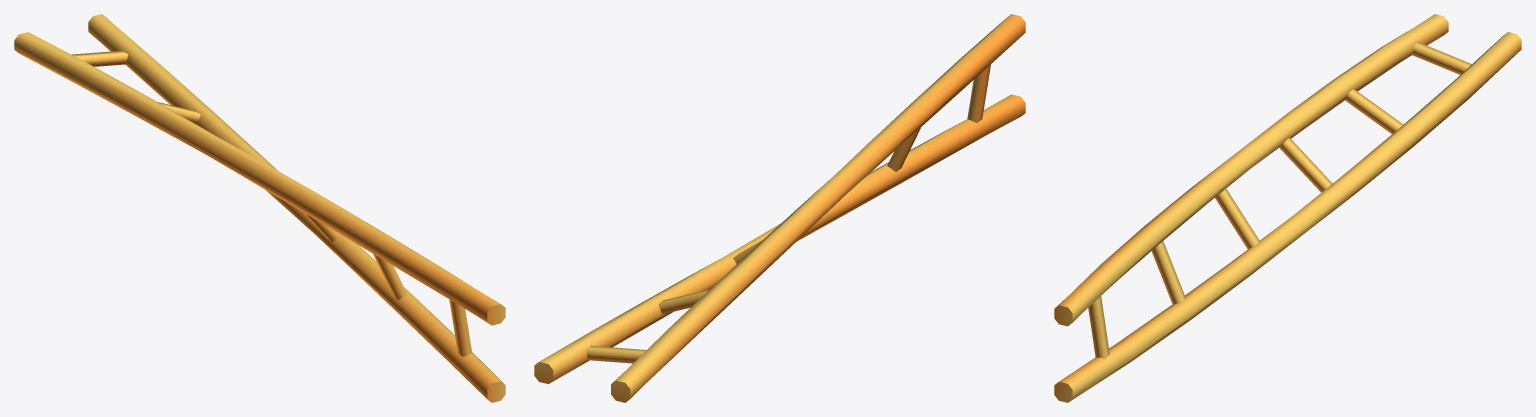
File: coaster-mouse-straight-skew-left-side.glb
The picture shows the model from 3 angles, left to right: view 1: azimuth 30°, elevation 25°; view 2: azimuth 150°, elevation 25°; view 3: azimuth 330°, elevation 25°; orthographic projection. The views are drawn at different scales.
Visible parts, largest first — view 1: coaster-mouse-straight-skew-left-side; view 2: coaster-mouse-straight-skew-left-side; view 3: coaster-mouse-straight-skew-left-side.
Boxes of the visible parts, x1,y1,x2,y2 form: coaster-mouse-straight-skew-left-side: (14, 14, 505, 402); coaster-mouse-straight-skew-left-side: (534, 14, 1025, 402); coaster-mouse-straight-skew-left-side: (1054, 14, 1521, 402).
Bounding box in the file's own units: 1.53 × 1.53 × 12.
1 material, 1 textured.
